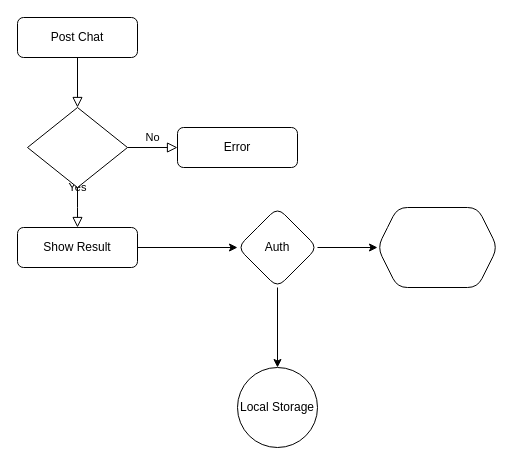
Some shapes in this 515 by 465 pixel diagram are drawn without their labels. The centre of each missing label's shape, as x and y in pixels:
"Local & Post Save API" goes at [437,247].
"success" goes at [77,147].
